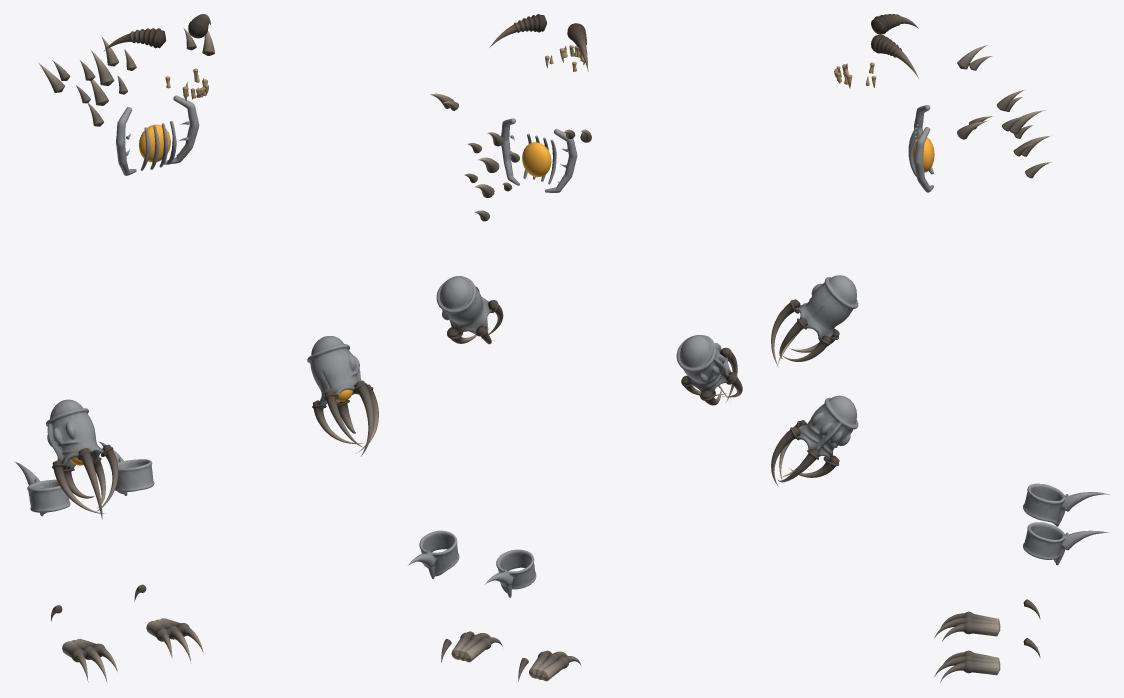
Rendered from imp-parts.glb.
3 views of the same model, side by side, from view 1: azimuth 30°, elevation 25°; view 2: azimuth 150°, elevation 25°; view 3: azimuth 270°, elevation 25° (orthographic). The views are drawn at different scales.
Parts seen in each view (by area): view 1: hand.r|socket, hand.l|socket, spine|spreader, hand.r|talons, hand.l|talons, spine|spines, foot.r|hock, foot.l|hock, foot.l|claws, foot.r|claws, skull|horns, spine|furnace; view 2: hand.l|socket, hand.r|socket, spine|spreader, foot.l|hock, foot.r|hock, skull|horns, foot.r|claws, foot.l|claws, hand.r|talons, spine|spines, spine|furnace, hand.l|talons; view 3: hand.r|socket, hand.l|socket, foot.r|hock, foot.l|hock, hand.r|talons, hand.l|talons, foot.r|claws, foot.l|claws, spine|spines, skull|horns, spine|spreader.
Boxes of the visible parts, x1,y1,x2,y2 form: hand.r|socket: (46, 399, 106, 472); hand.l|socket: (307, 336, 361, 409); spine|spreader: (116, 95, 199, 175); hand.r|talons: (52, 444, 118, 519); hand.l|talons: (312, 380, 378, 456); spine|spines: (76, 36, 136, 126); foot.r|hock: (14, 461, 70, 516); foot.l|hock: (98, 441, 154, 495); foot.l|claws: (134, 584, 203, 663); foot.r|claws: (50, 605, 117, 683); skull|horns: (103, 14, 210, 51); spine|furnace: (139, 124, 170, 162); hand.l|socket: (436, 276, 492, 334); hand.r|socket: (676, 335, 730, 392); spine|spreader: (501, 118, 577, 192); foot.l|hock: (408, 530, 459, 578); foot.r|hock: (485, 549, 536, 597); skull|horns: (490, 14, 588, 71); foot.r|claws: (518, 650, 581, 681); foot.l|claws: (441, 631, 502, 662); hand.r|talons: (681, 347, 742, 405); spine|spines: (464, 132, 519, 221); spine|furnace: (522, 142, 551, 177); hand.l|talons: (442, 286, 503, 344); hand.r|socket: (793, 275, 858, 341); hand.l|socket: (795, 395, 858, 461); foot.r|hock: (1023, 483, 1109, 526); foot.l|hock: (1023, 522, 1109, 565); hand.r|talons: (771, 299, 839, 367); hand.l|talons: (771, 420, 839, 486); foot.r|claws: (934, 599, 1040, 641); foot.l|claws: (934, 638, 1040, 682); spine|spines: (996, 89, 1052, 178); skull|horns: (871, 14, 918, 78); spine|spreader: (908, 105, 933, 192).
Bounding box in the file's own units: 0.8393 × 1.68 × 0.8153.
